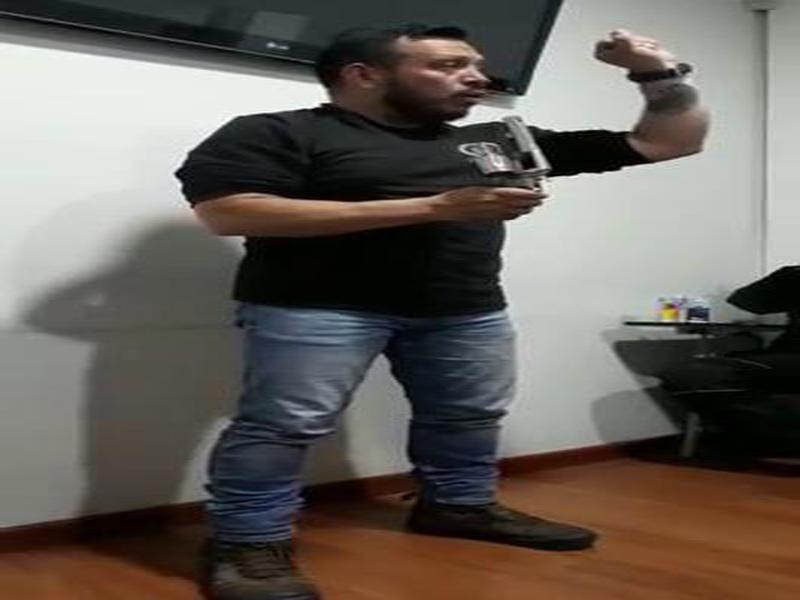Revolver: (469, 100, 567, 238)
